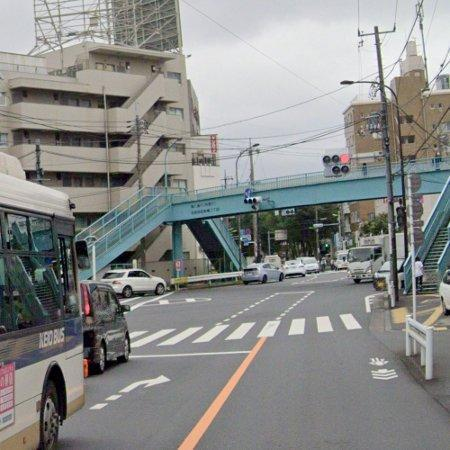crosswalk: (129, 313, 363, 348)
